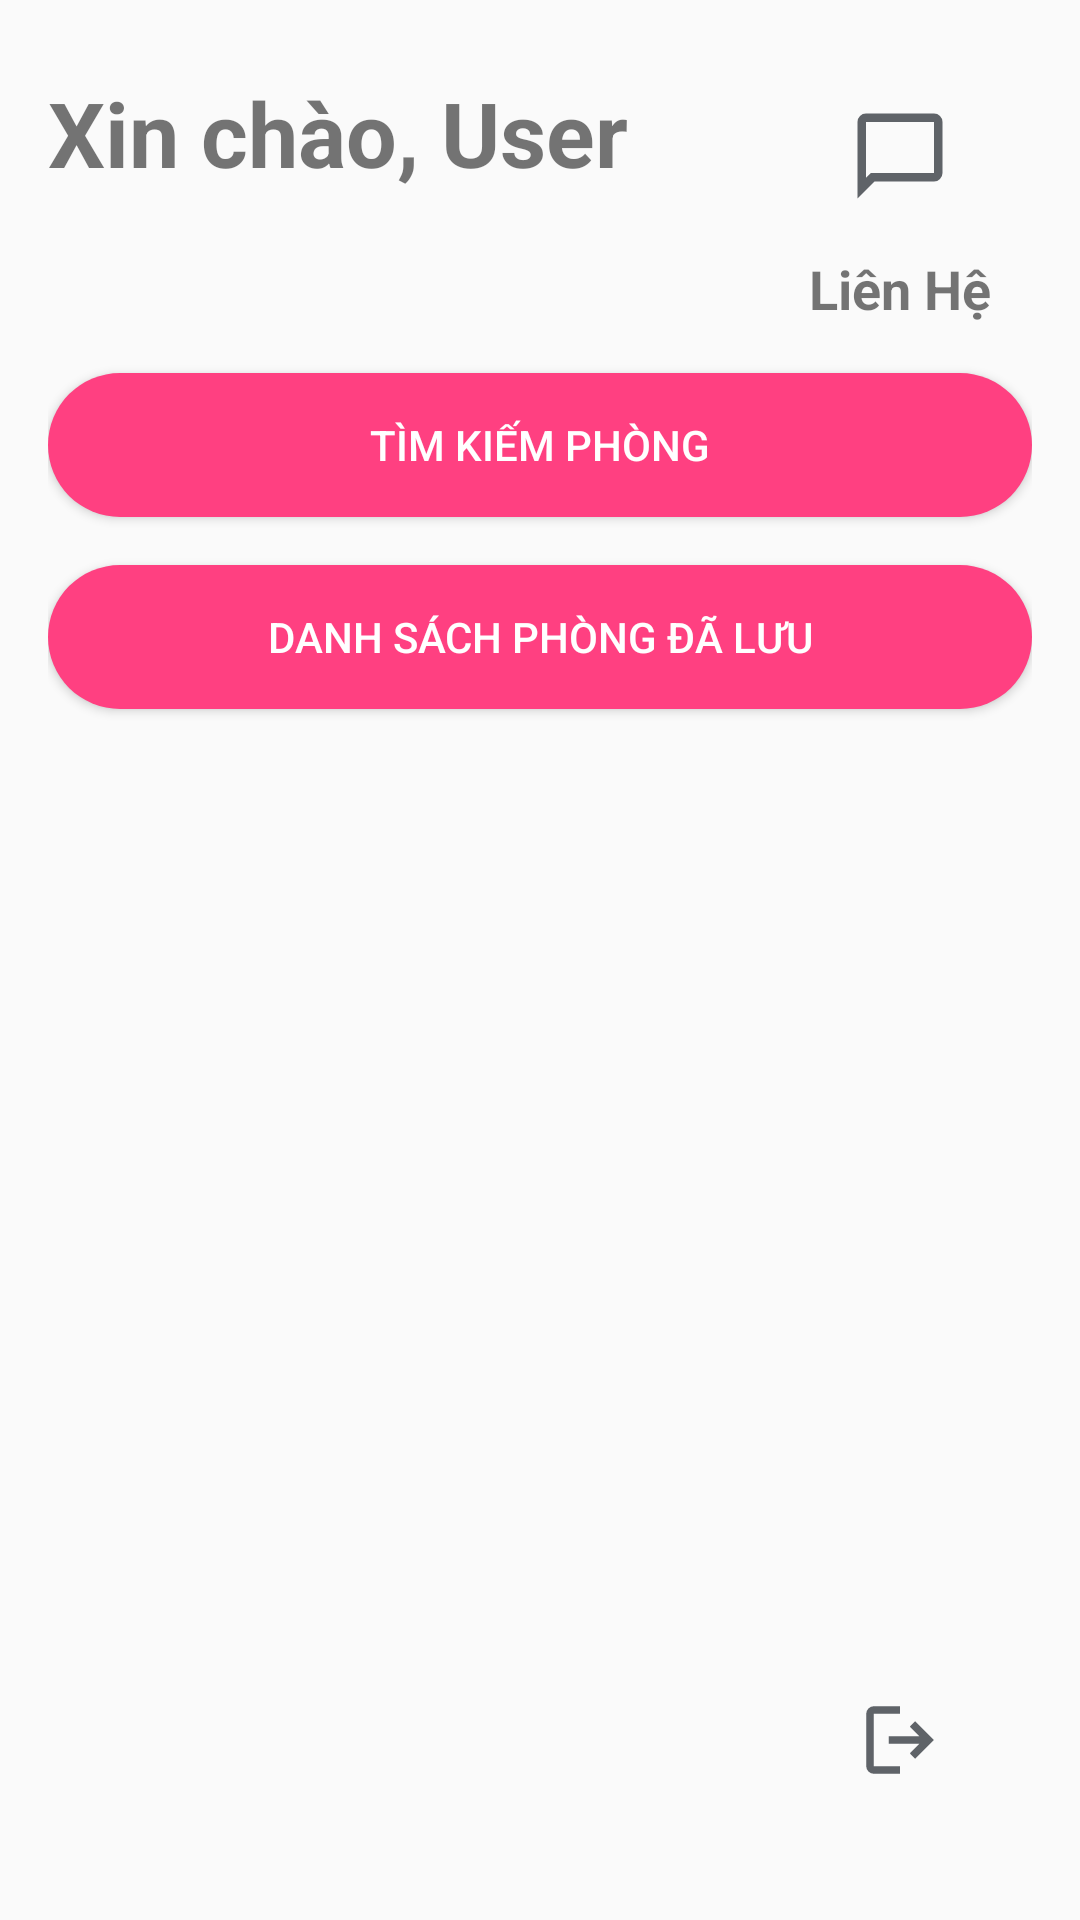

Point at icon controls on the screen. Image size 1080px×1920px, points as point (x, y).
Chat: point (900, 155)
